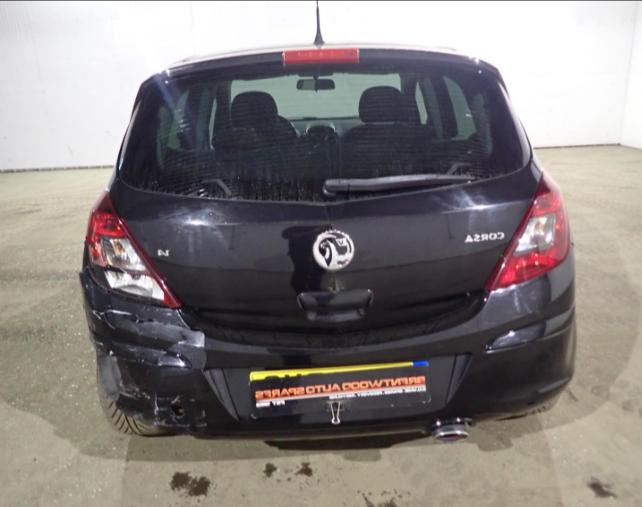Broken part: (79, 236, 576, 435), (86, 226, 180, 307)
